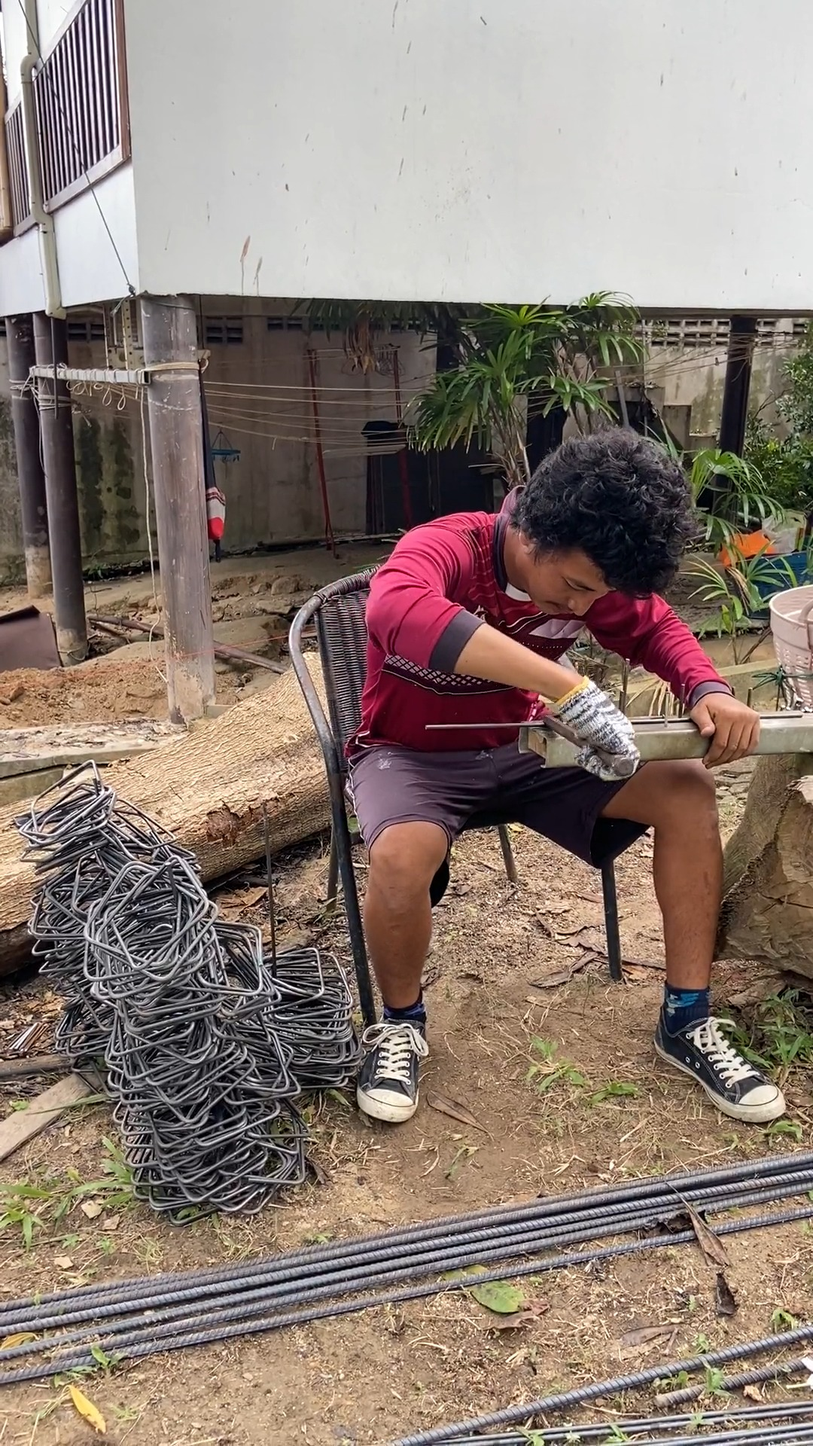No-gloves: (688, 690, 789, 770)
gloves: (539, 655, 657, 800)
